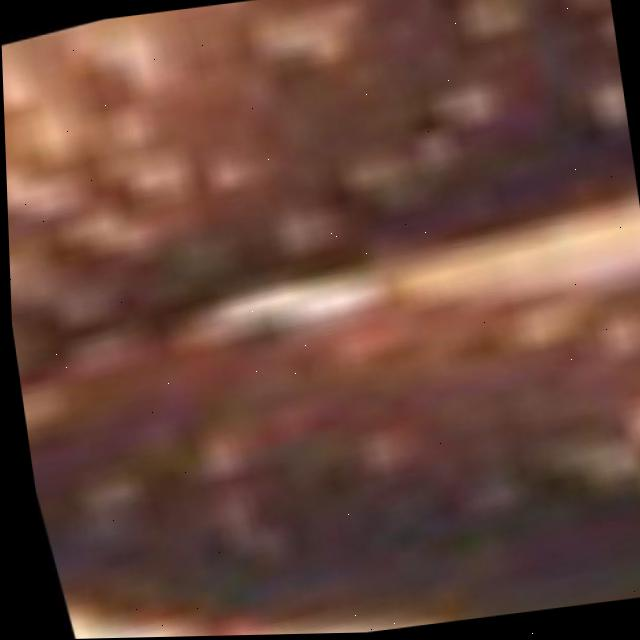Eczema: (30, 0, 640, 639)
